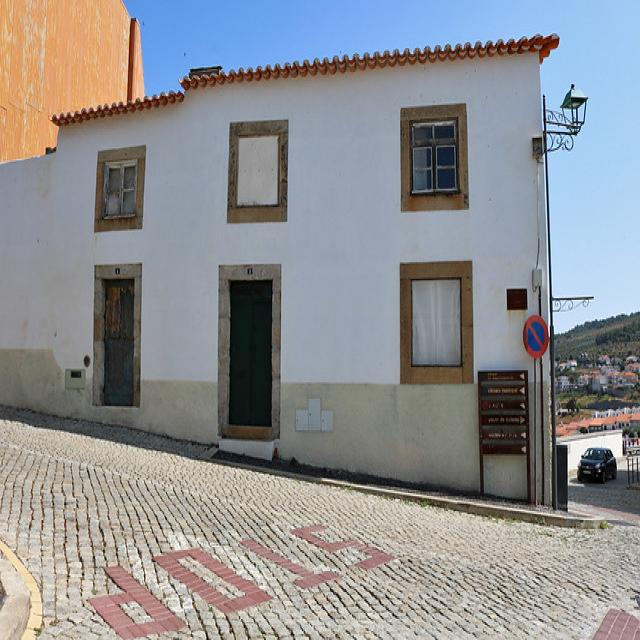Normal_building: (4, 32, 564, 517)
